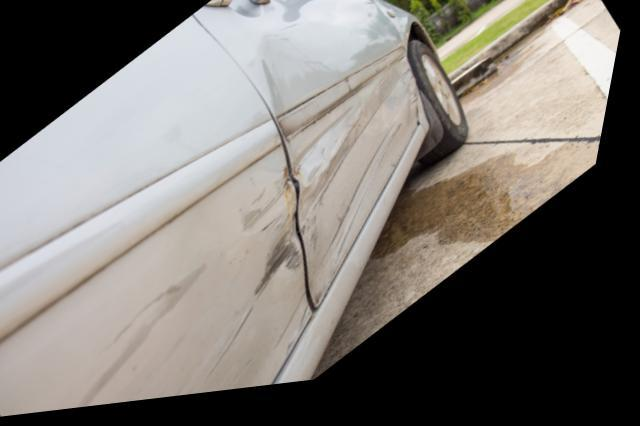dent: (294, 67, 426, 317), (243, 175, 313, 294), (266, 44, 341, 120)
scratch: (79, 249, 327, 413)
